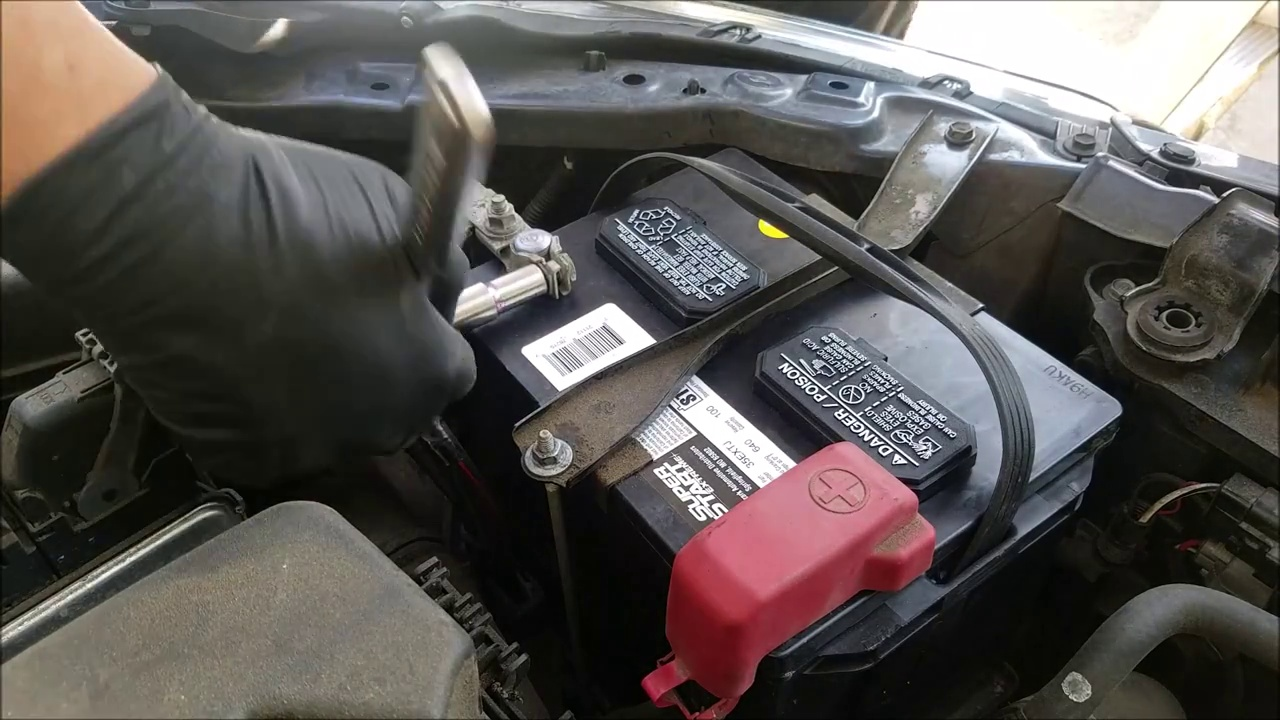battery: (439, 150, 1116, 662)
neg_connected: (459, 150, 589, 322)
neg_touched: (293, 125, 589, 427)
pos_connected: (648, 428, 938, 687)
